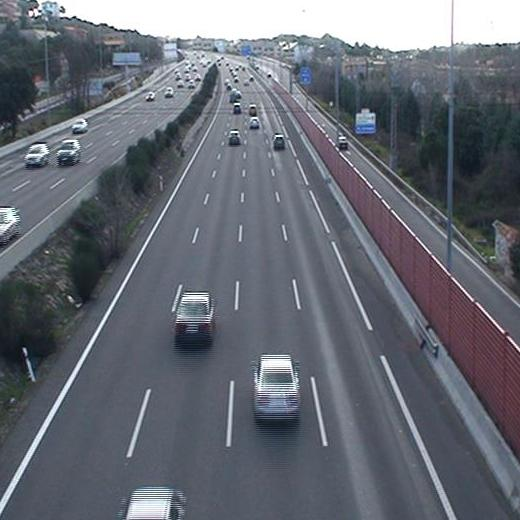car: (247, 349, 305, 433), (169, 287, 222, 350), (226, 129, 243, 148), (271, 132, 287, 152), (247, 116, 263, 130), (246, 103, 260, 118), (231, 101, 244, 115)
van: (227, 88, 238, 103)
